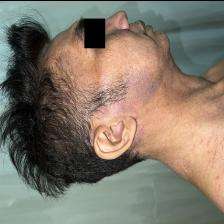Psoriasis vulgaris: (111, 66, 163, 114)
